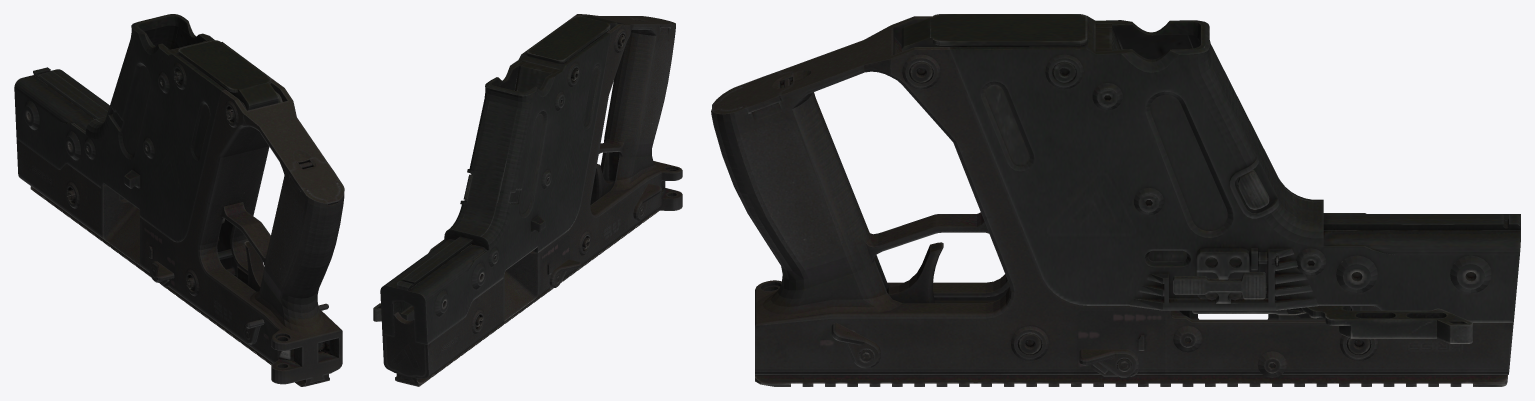
The picture shows the model from 3 angles, left to right: view 1: azimuth 30°, elevation 25°; view 2: azimuth 150°, elevation 25°; view 3: azimuth 270°, elevation 25°; orthographic projection. The views are drawn at different scales.
Visible parts, largest first — view 1: TW_5fb64bc92b1b027b1f50bcf2_PZ_Import; view 2: TW_5fb64bc92b1b027b1f50bcf2_PZ_Import; view 3: TW_5fb64bc92b1b027b1f50bcf2_PZ_Import.
Part boxes in pixels (x1=…): TW_5fb64bc92b1b027b1f50bcf2_PZ_Import: x1=14, y1=14, x2=344, y2=386; TW_5fb64bc92b1b027b1f50bcf2_PZ_Import: x1=373, y1=14, x2=682, y2=386; TW_5fb64bc92b1b027b1f50bcf2_PZ_Import: x1=711, y1=14, x2=1520, y2=386.
Size of the model in its own units: 0.0381 by 0.2097 by 0.1004.
1 material, 1 textured.
